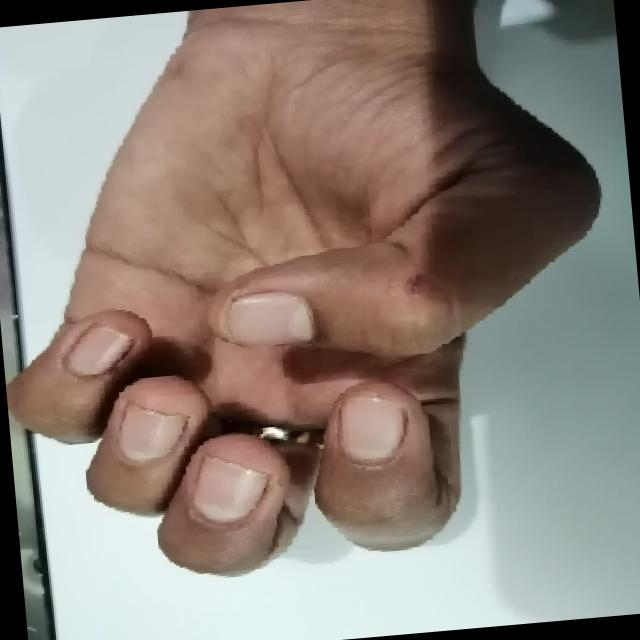Nail: (191, 457, 266, 522), (228, 292, 313, 346), (338, 393, 404, 462), (118, 404, 187, 463), (65, 326, 130, 375)
